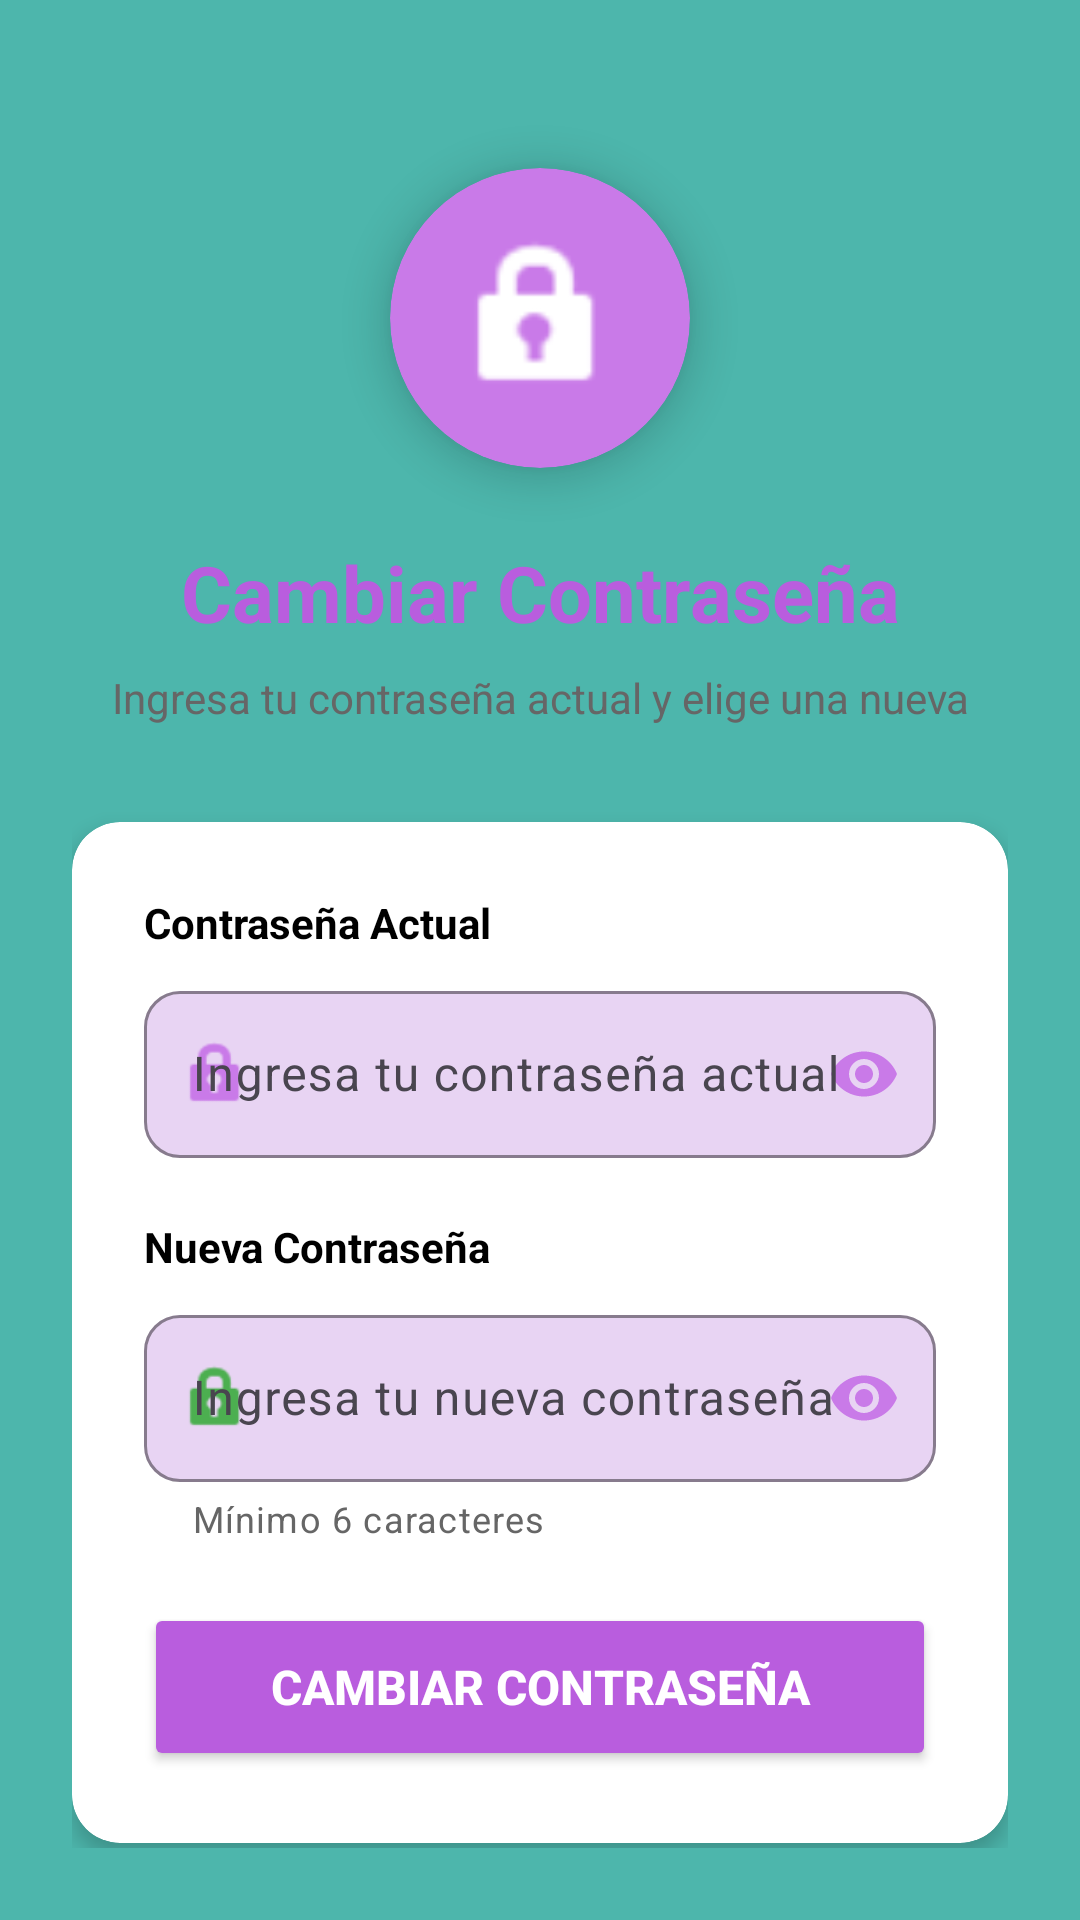

Named icons in this screenshot (1080x1920) and their centers, (x,y):
Icono de candado: (535,312)
